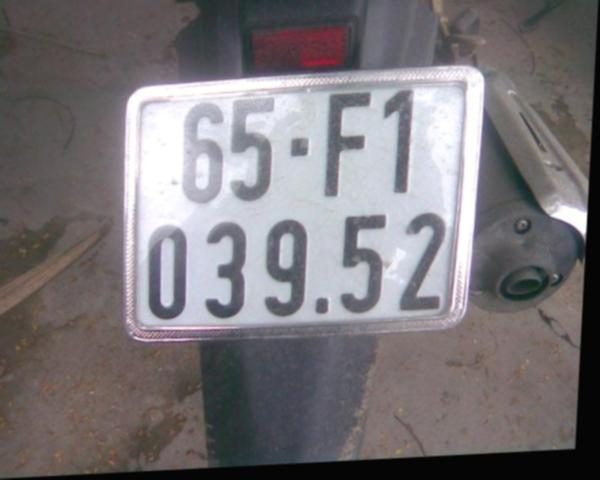License_Plate: (121, 73, 480, 341)
